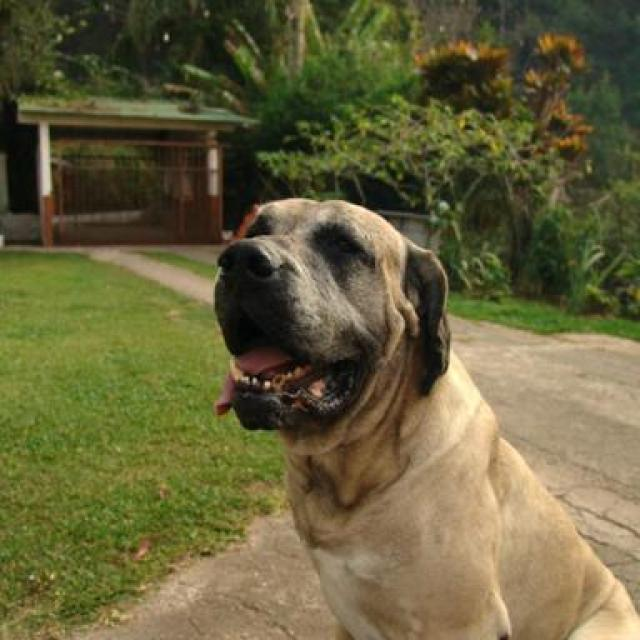happy: (213, 173, 637, 640)
